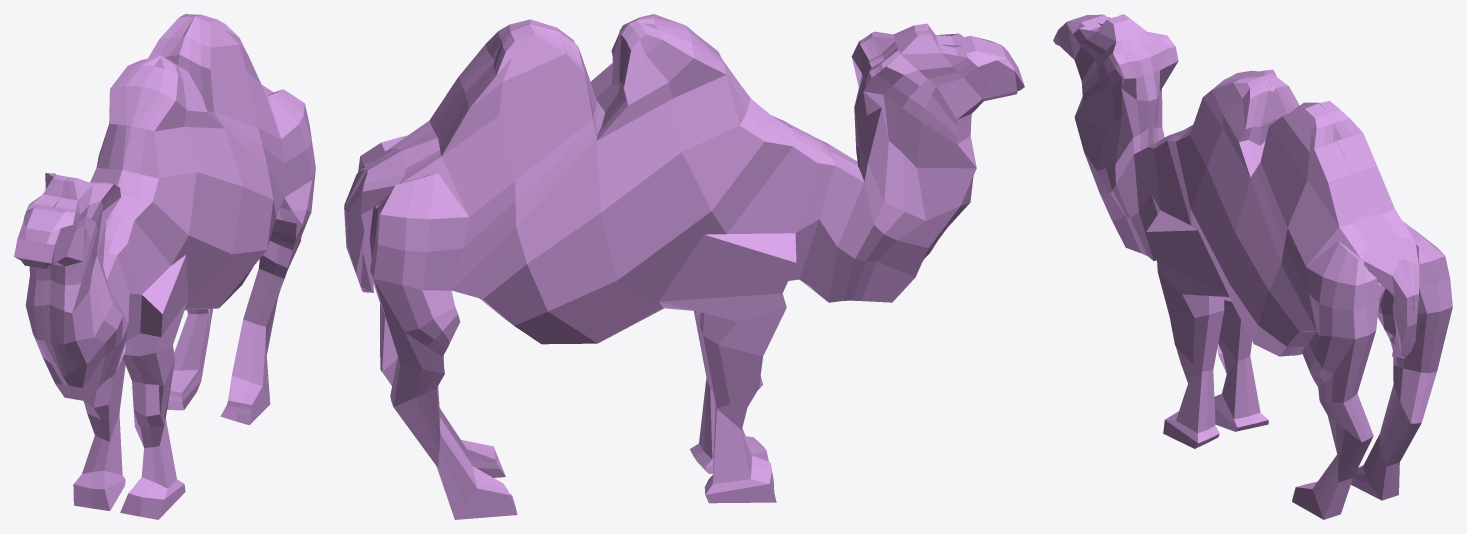
The model's file is camel.obj.
3 renders of one model, left to right at view 1: azimuth 30°, elevation 25°; view 2: azimuth 150°, elevation 25°; view 3: azimuth 270°, elevation 25°, orthographic. The views are drawn at different scales.
Parts seen in each view (by area): view 1: Object_0_0; view 2: Object_0_0; view 3: Object_0_0.
Boxes of the visible parts, x1,y1,x2,y2 form: Object_0_0: (14, 14, 315, 519); Object_0_0: (344, 14, 1024, 519); Object_0_0: (1053, 14, 1452, 519).
Size of the model in its own units: 1.91 by 1.7 by 1.6.
Materials: 1 (1 with a texture image).
